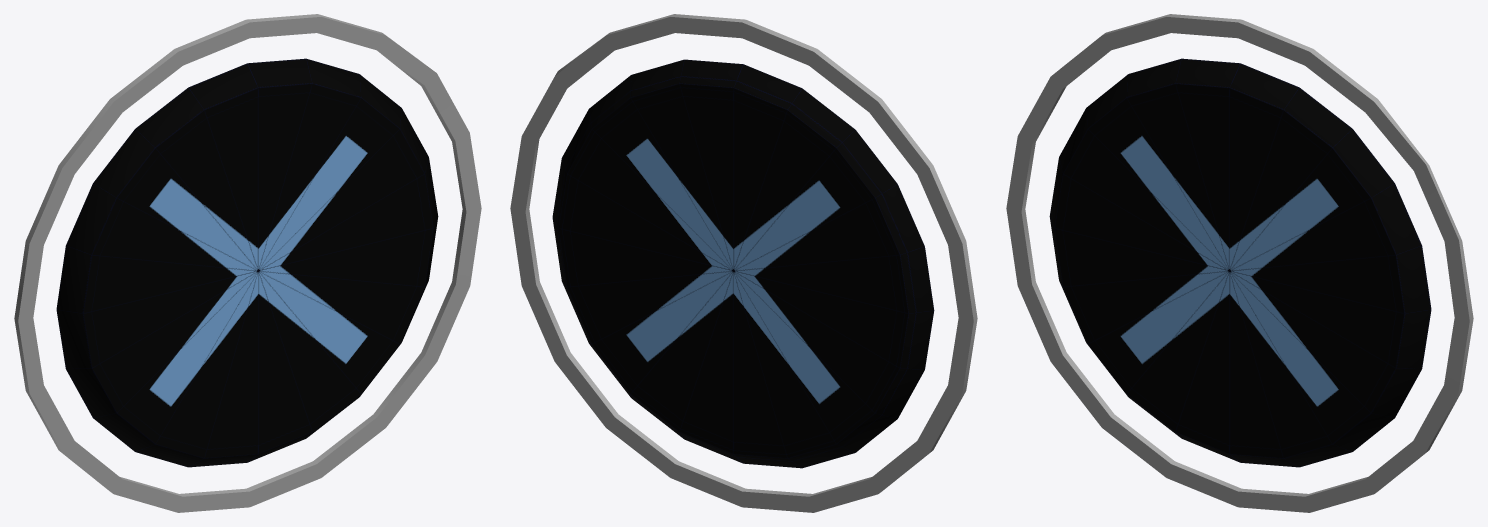
The model's file is ButtonAndRing.fbx.
3 renders of one model, left to right at view 1: azimuth 30°, elevation 25°; view 2: azimuth 150°, elevation 25°; view 3: azimuth 330°, elevation 25°, orthographic.
Visible parts, largest first — view 1: Button, Ring; view 2: Button, Ring; view 3: Button, Ring.
Part boxes in pixels (x1,y1,x2,y2): Button: (56,58,438,467); Ring: (14,14,481,512); Button: (552,59,934,468); Ring: (510,14,977,512); Button: (1049,58,1431,467); Ring: (1006,14,1473,512).
Bounding box in the file's own units: 140 × 140 × 10.94.
2 materials, 1 textured.
